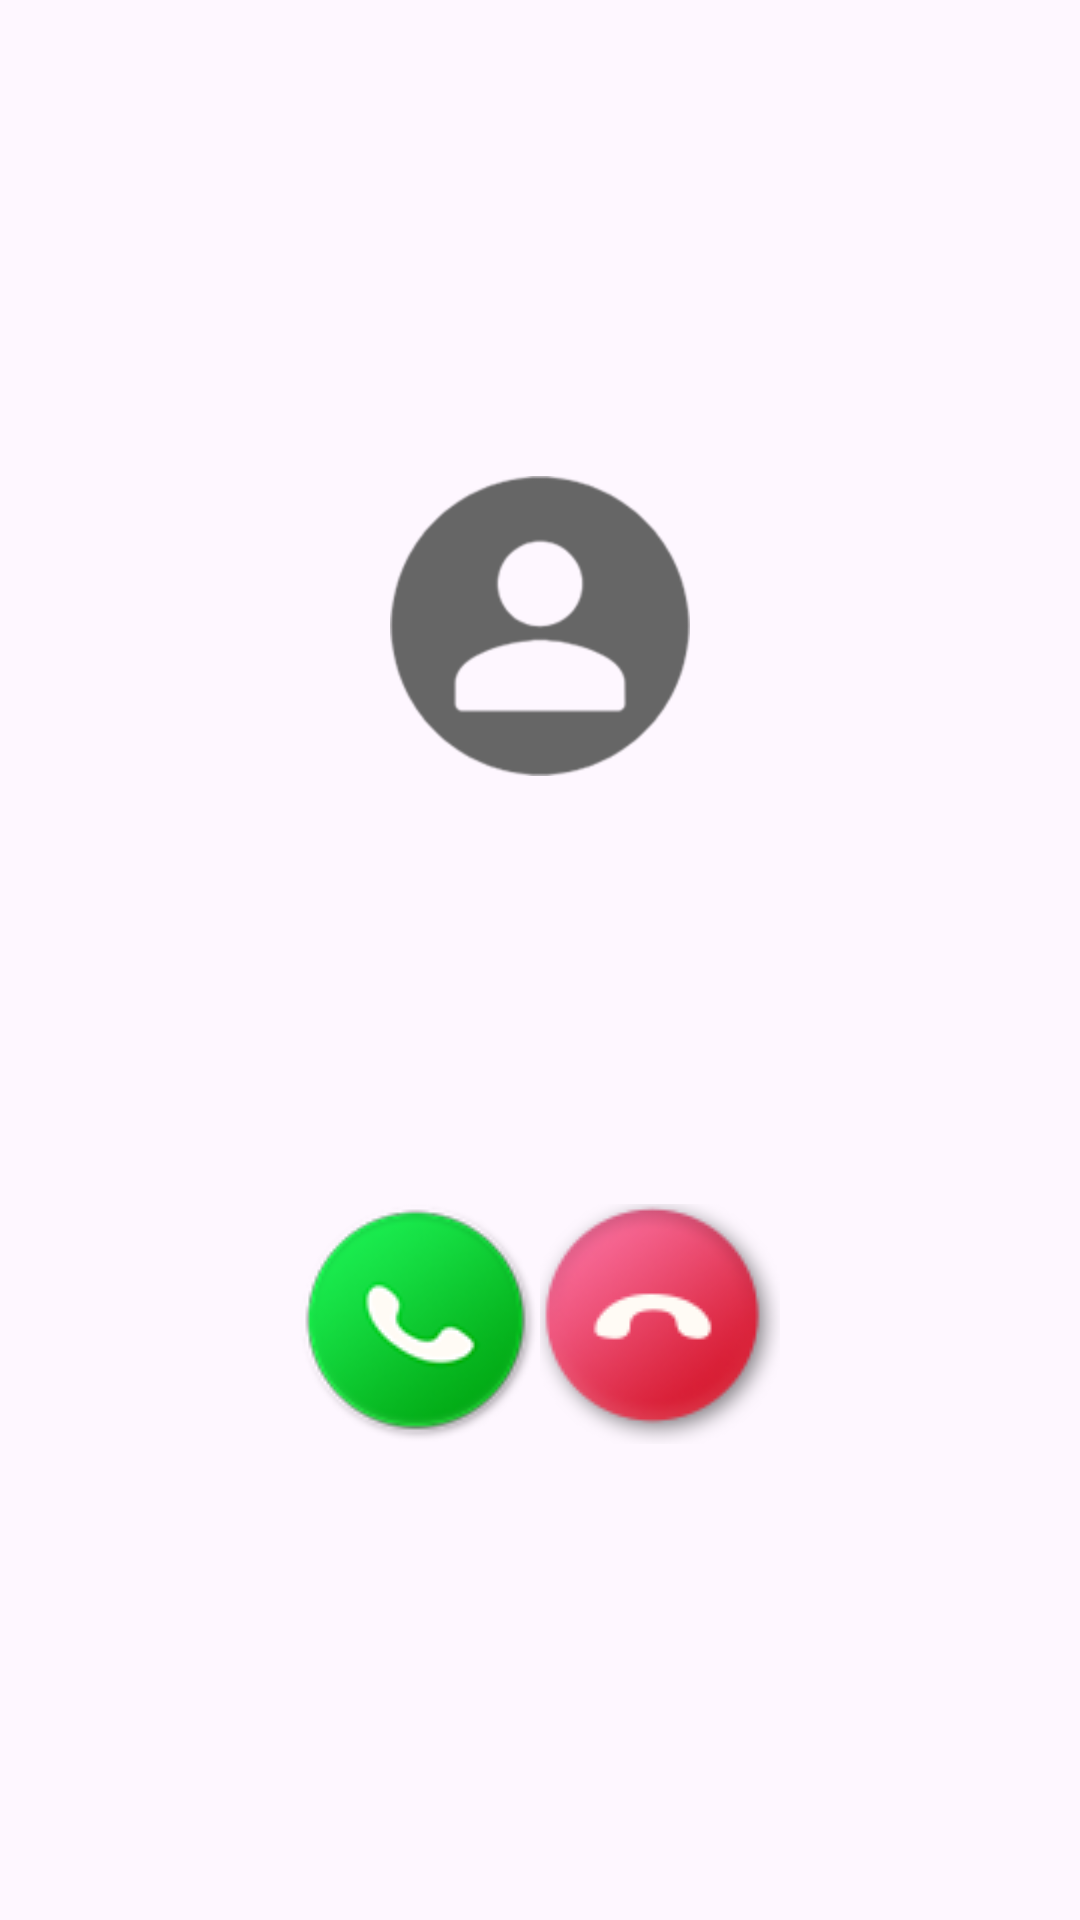

Icons on this 1080 × 1920 Android screen, each with the point to tap as (x,y):
hang: (658,1320)
pick: (418,1322)
